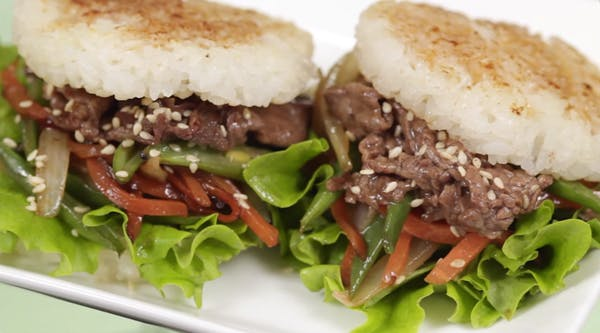hamburger_buns: (324, 8, 600, 333), (9, 8, 340, 277)
